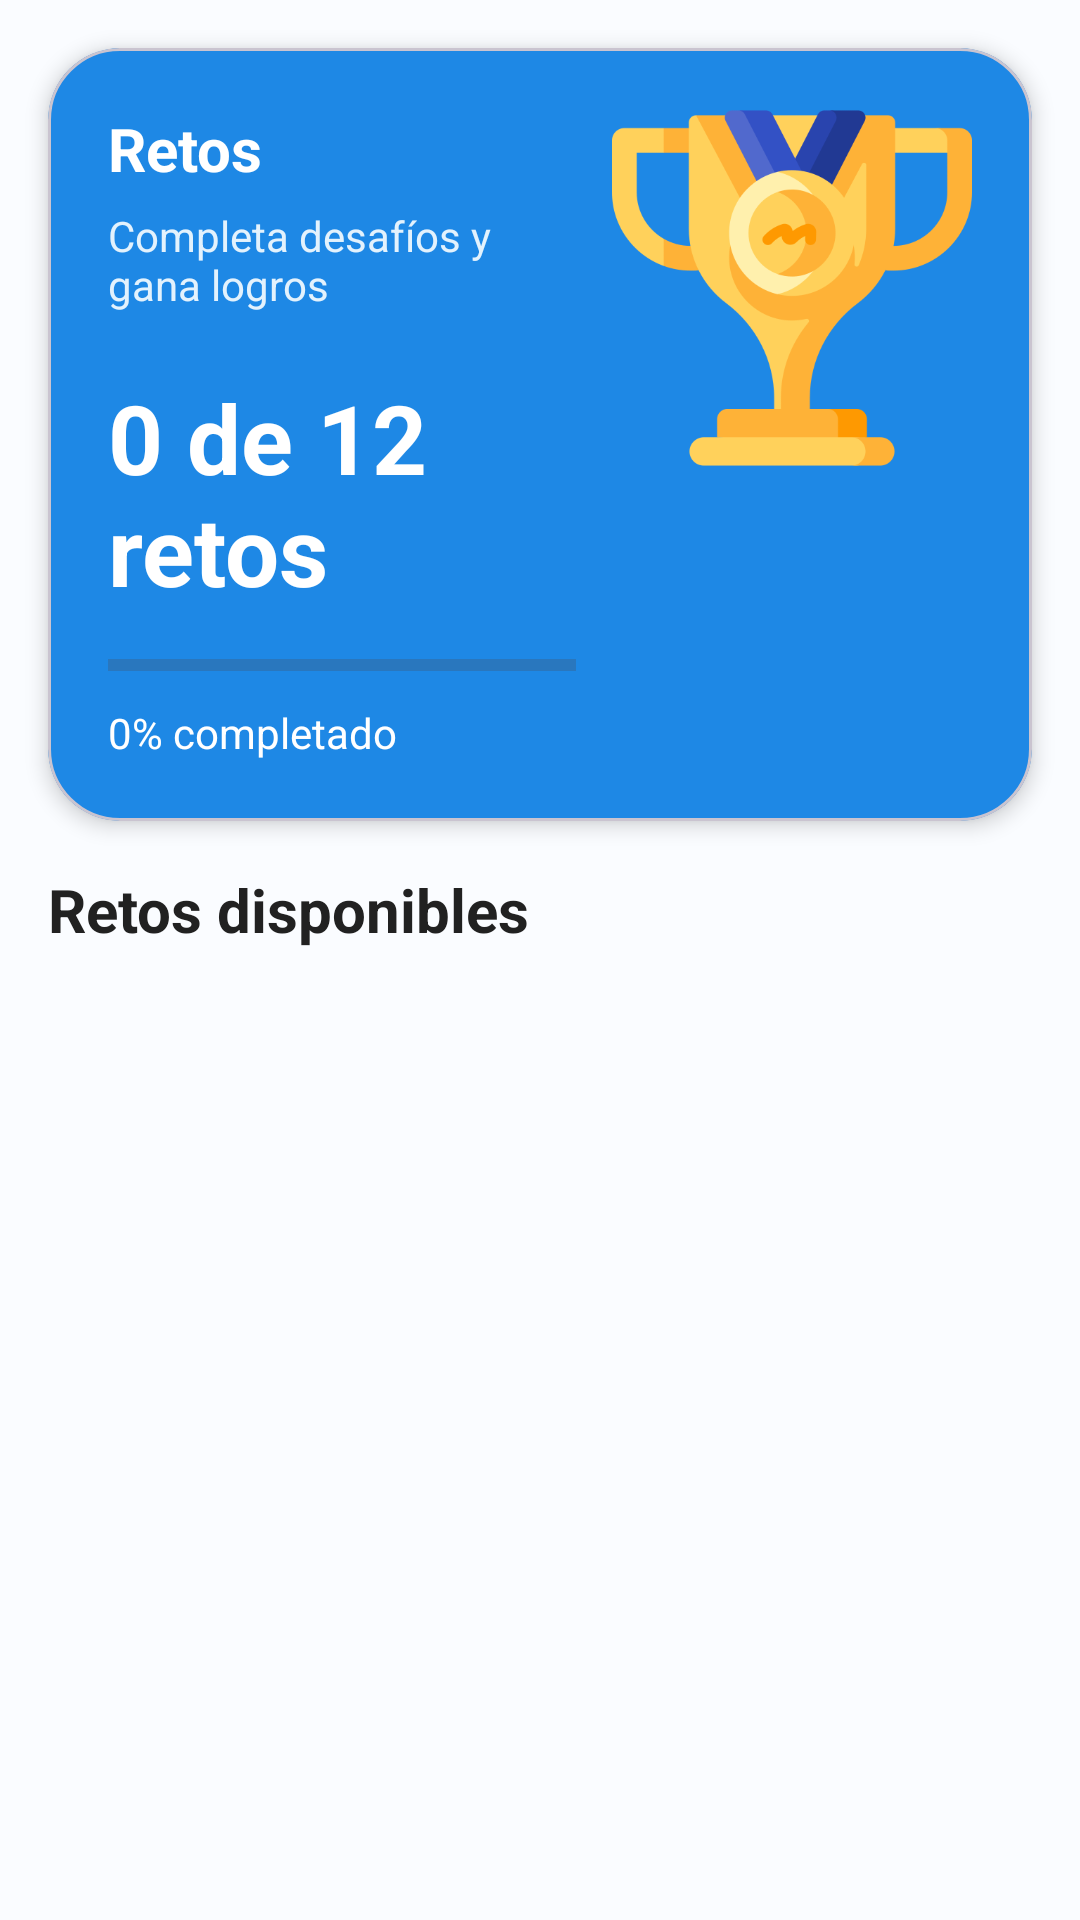

Locate icon controls on the screen. Image size 1080*1920, boxes as (x1, y1, x2, y2).
trofeo: (612, 110, 972, 466)
